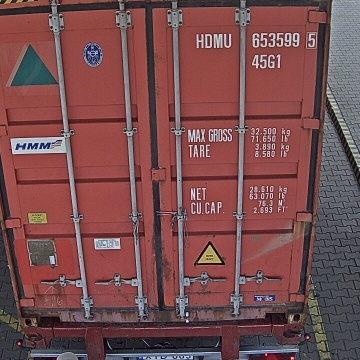serial_id: (196, 32, 317, 48)
